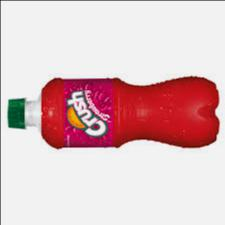Plastic: (3, 71, 220, 147)
